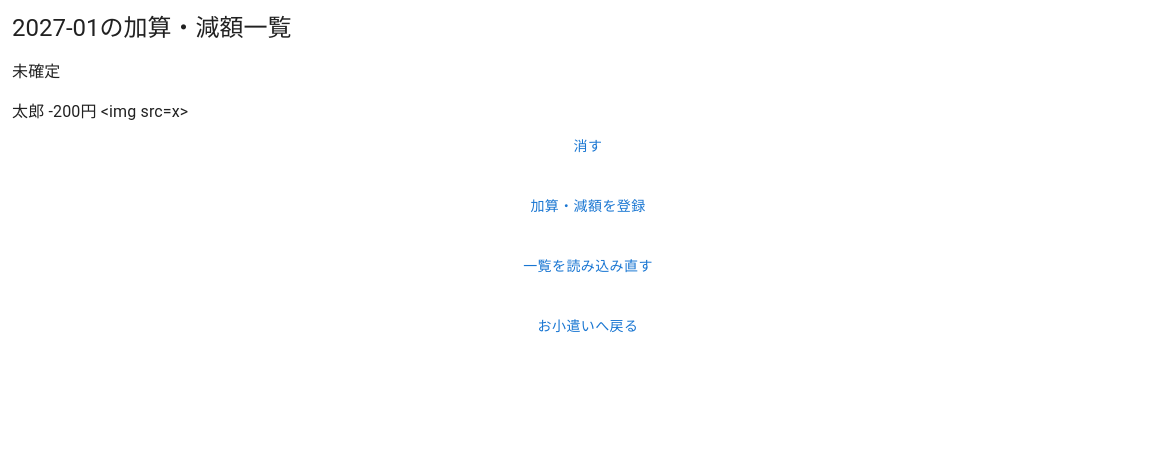
Scenario: 独立した訂正一覧と確認 › 登録画面へ進める
Click the button with test id "adjustment-add": (588, 206) [12,184,1164,228]
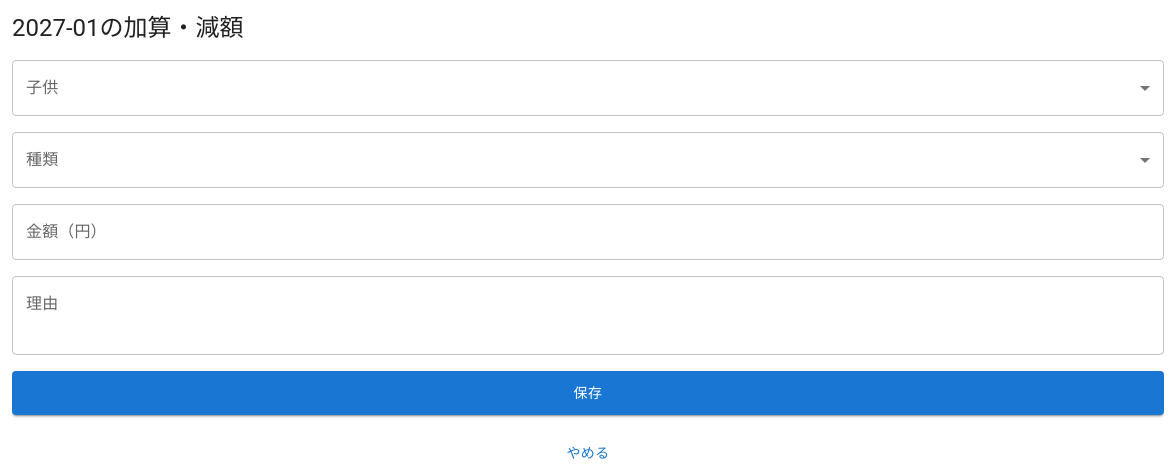
expect the text box labelled "理由" is shown: met, box [26,292,1150,338]
